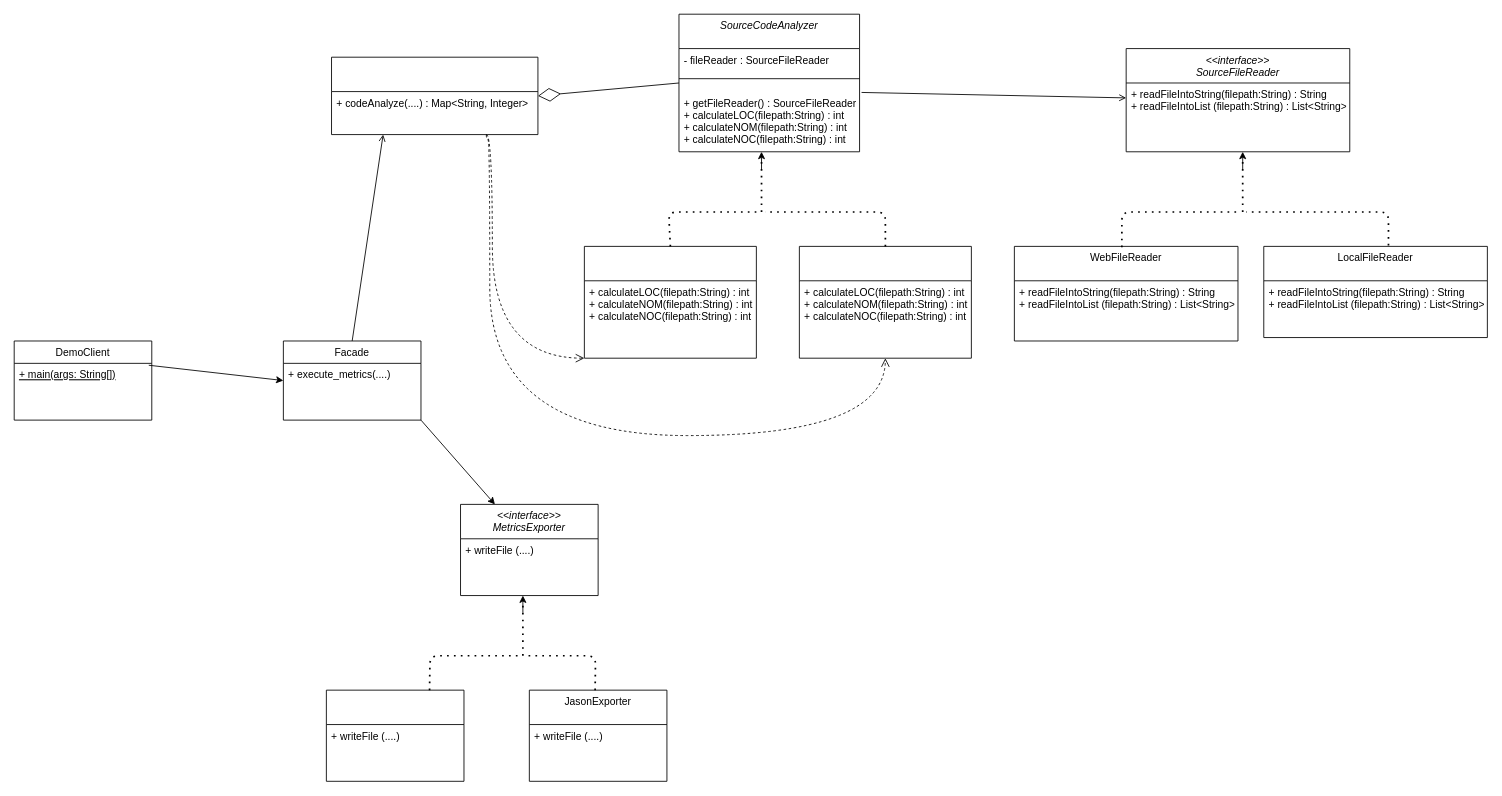
This 1502x796 diagram has some shape labels left out. The box of each missing label's shape, as (x1, y1, x2, y2) in pixels:
CsvExporter: (326, 689, 464, 781)
FactoryAnalyzer: (331, 56, 538, 135)
RegexAnalyzer: (584, 246, 756, 358)
StrcompAnalyzer: (799, 246, 971, 358)
